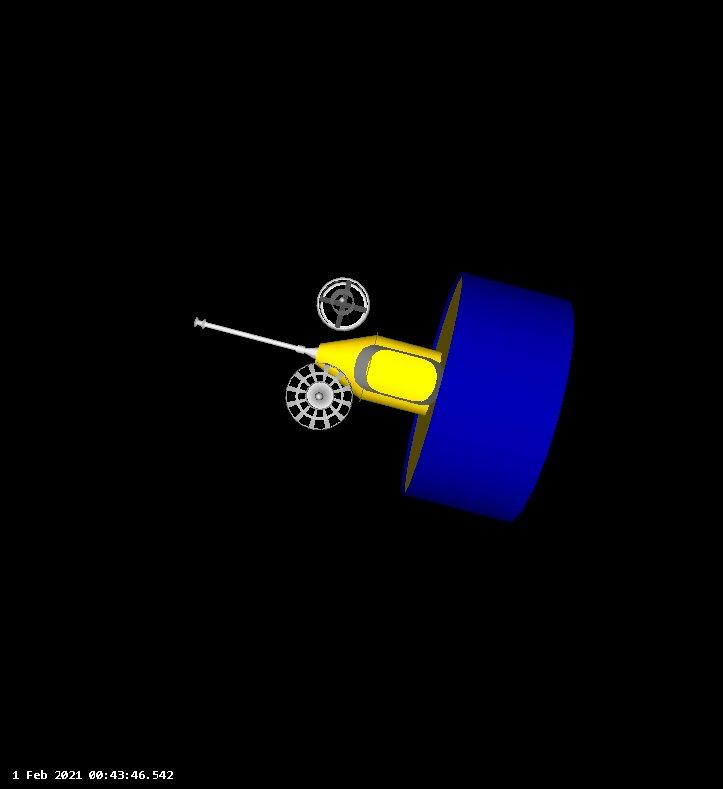antenna: (186, 309, 319, 358), (285, 358, 352, 432), (315, 273, 374, 336)
body: (310, 335, 446, 414)
solar: (401, 270, 576, 520)
thruster: (353, 340, 447, 407)
